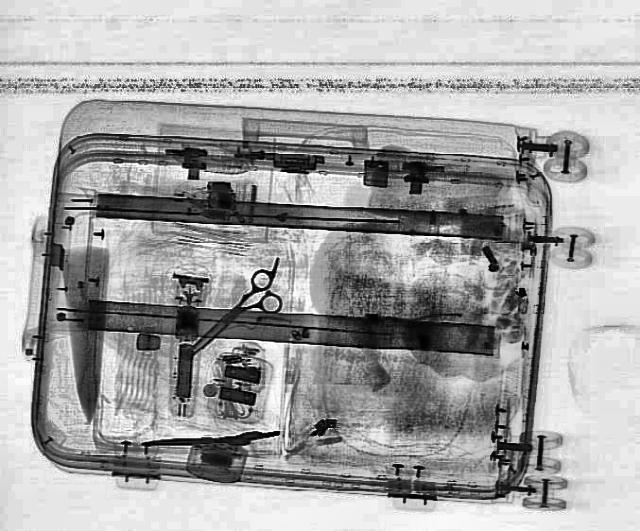Scissors: (168, 265, 300, 367)
